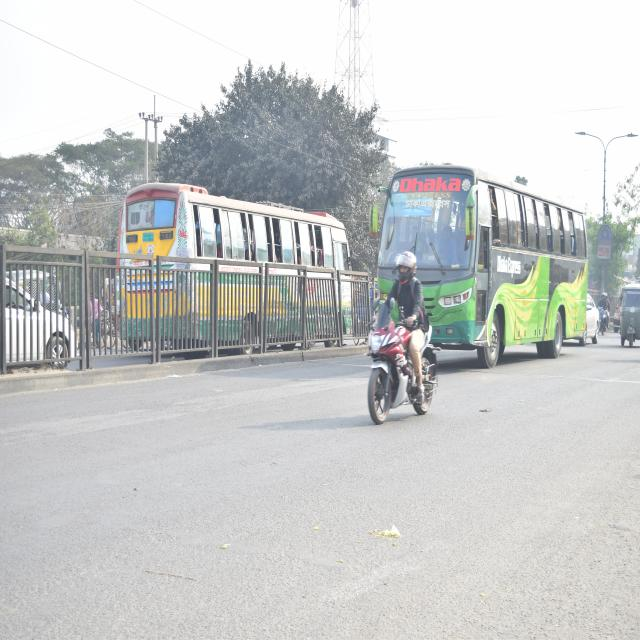bus: (374, 167, 586, 363)
car: (585, 285, 605, 363)
motorbike: (353, 282, 437, 444), (595, 293, 614, 339)
